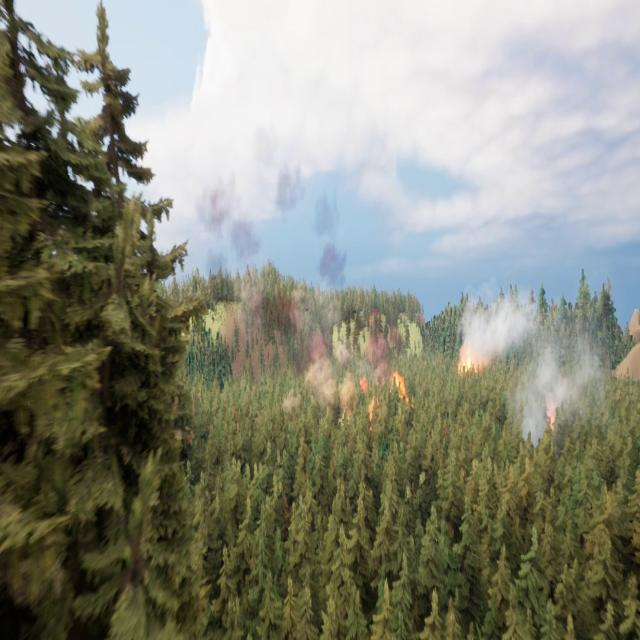fire: (366, 368, 413, 428), (461, 349, 485, 368)
smoke: (198, 125, 346, 395), (514, 328, 605, 464), (461, 291, 536, 363)
